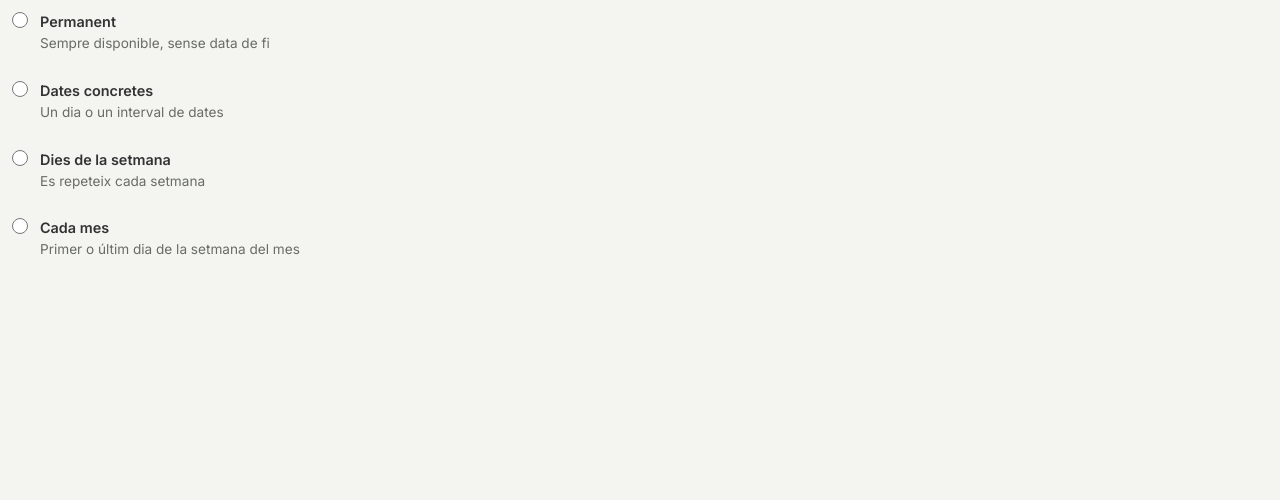
Test: TabQuan.vue › mode mensual: combina ordinals i dies
Click the radio button labelled "Cada mes Primer o últim dia de la setmana del mes".
click(20, 226)  # box [12,218,28,234]
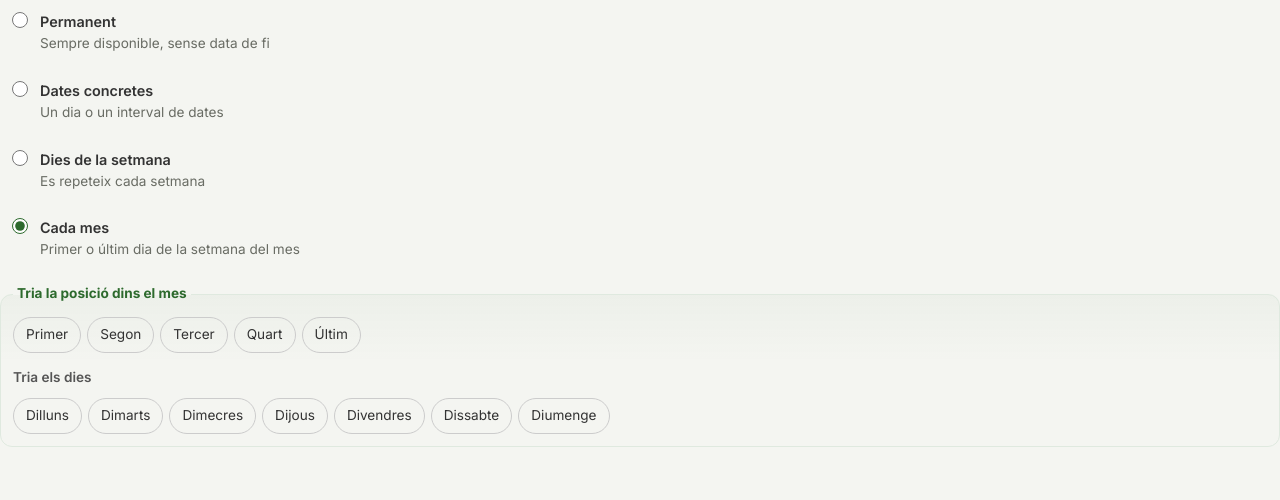
Click the checkbox labelled "Primer".
click(47, 335)  # box [13,317,81,353]
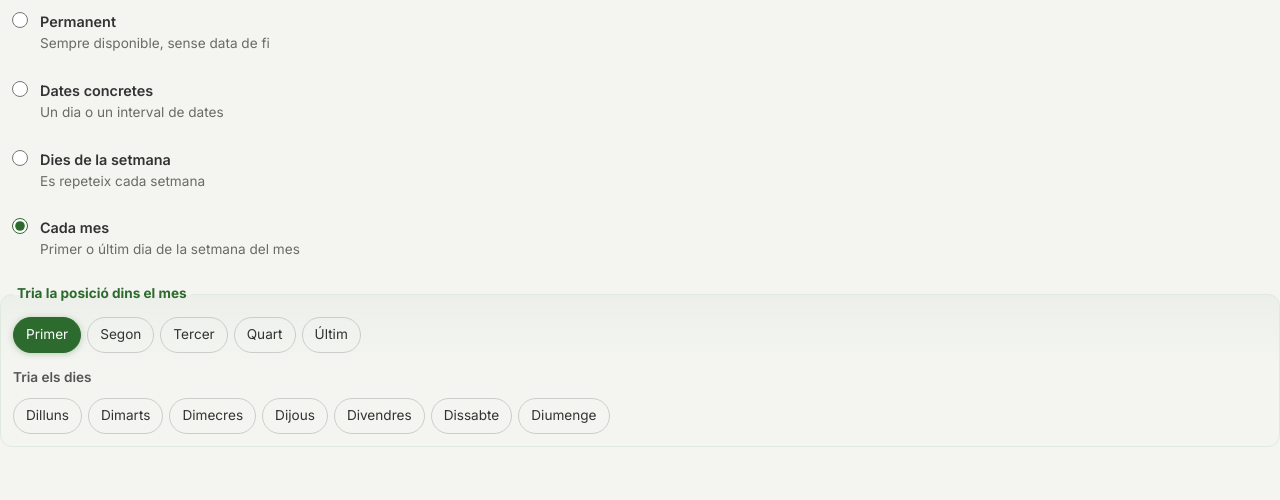
Click the checkbox labelled "Últim".
click(331, 335)  # box [302,317,361,353]
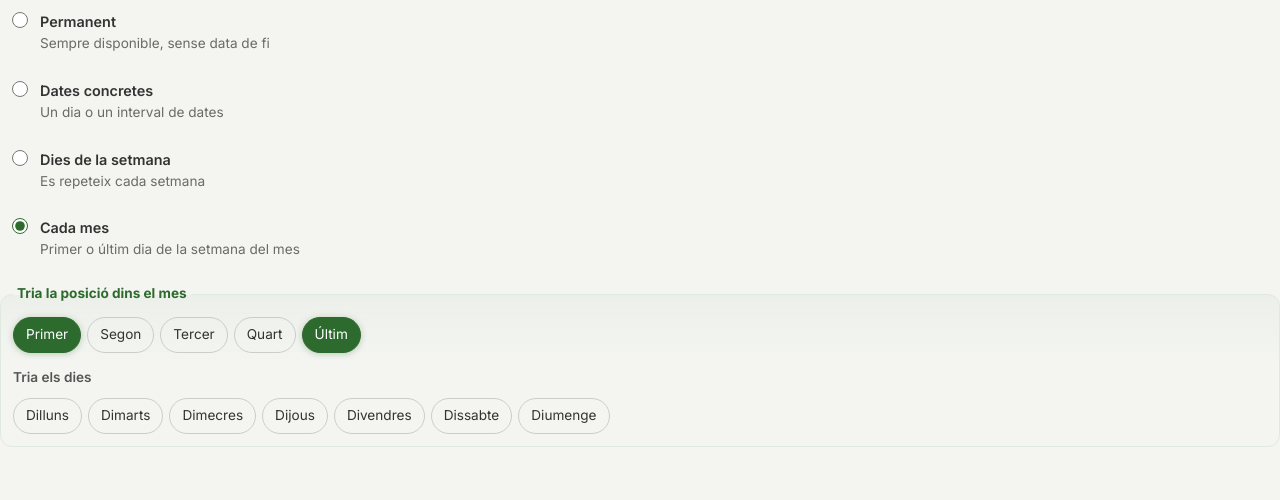
Click the checkbox labelled "Dilluns".
click(47, 416)  # box [13,398,82,434]
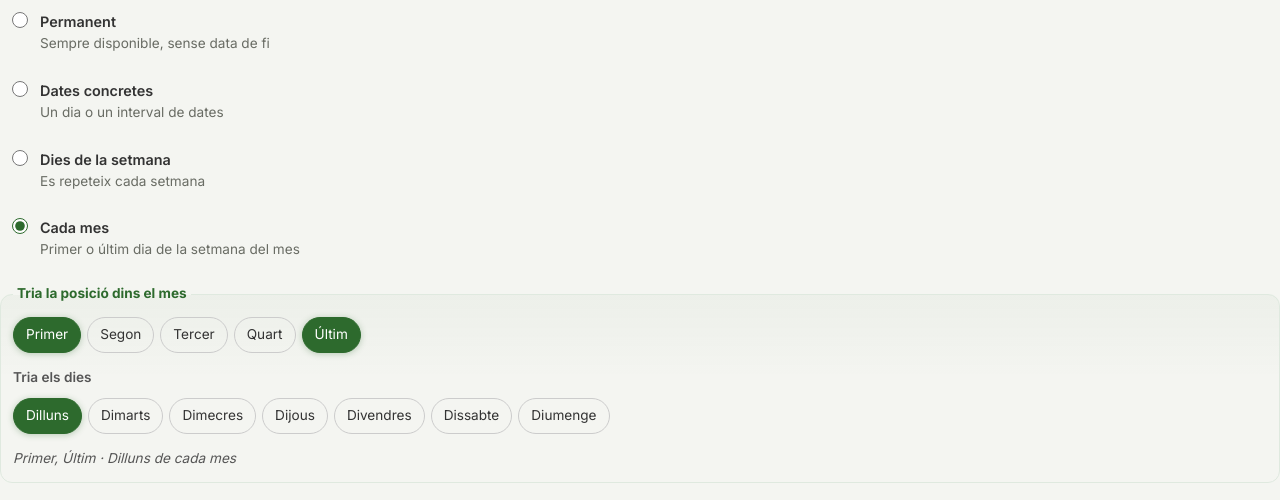
Result: the text with class "resum" shows "Dilluns" at [13,450,236,466]
